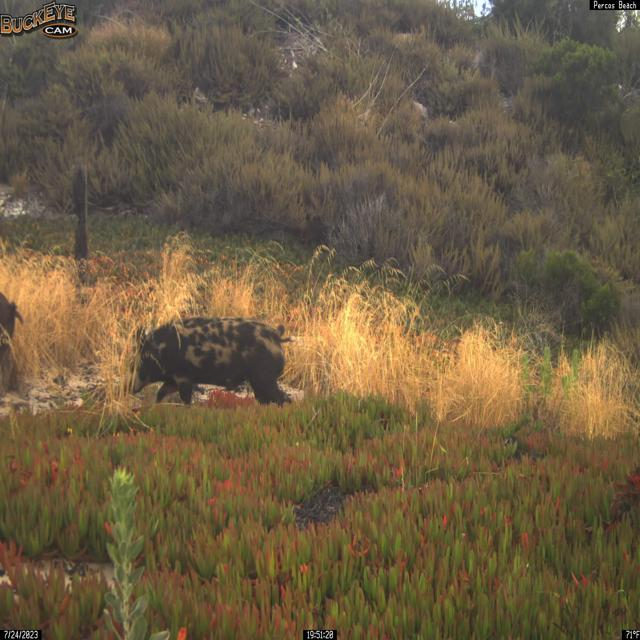pig: (127, 315, 297, 408)
